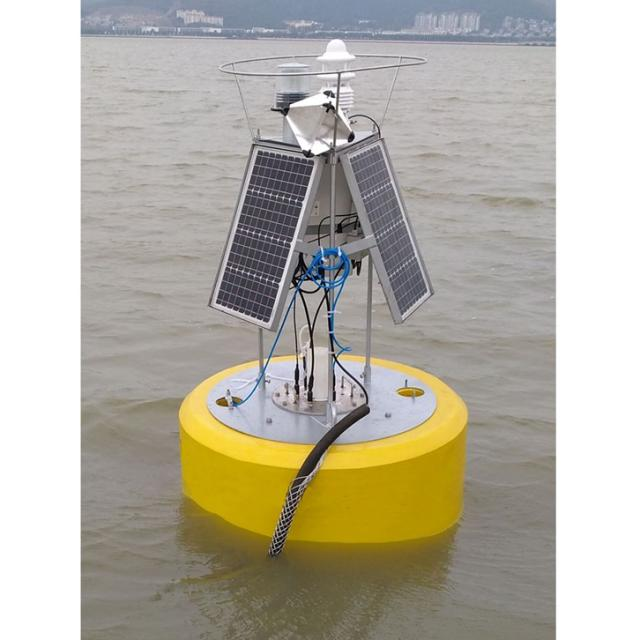buoy: (168, 38, 480, 554)
